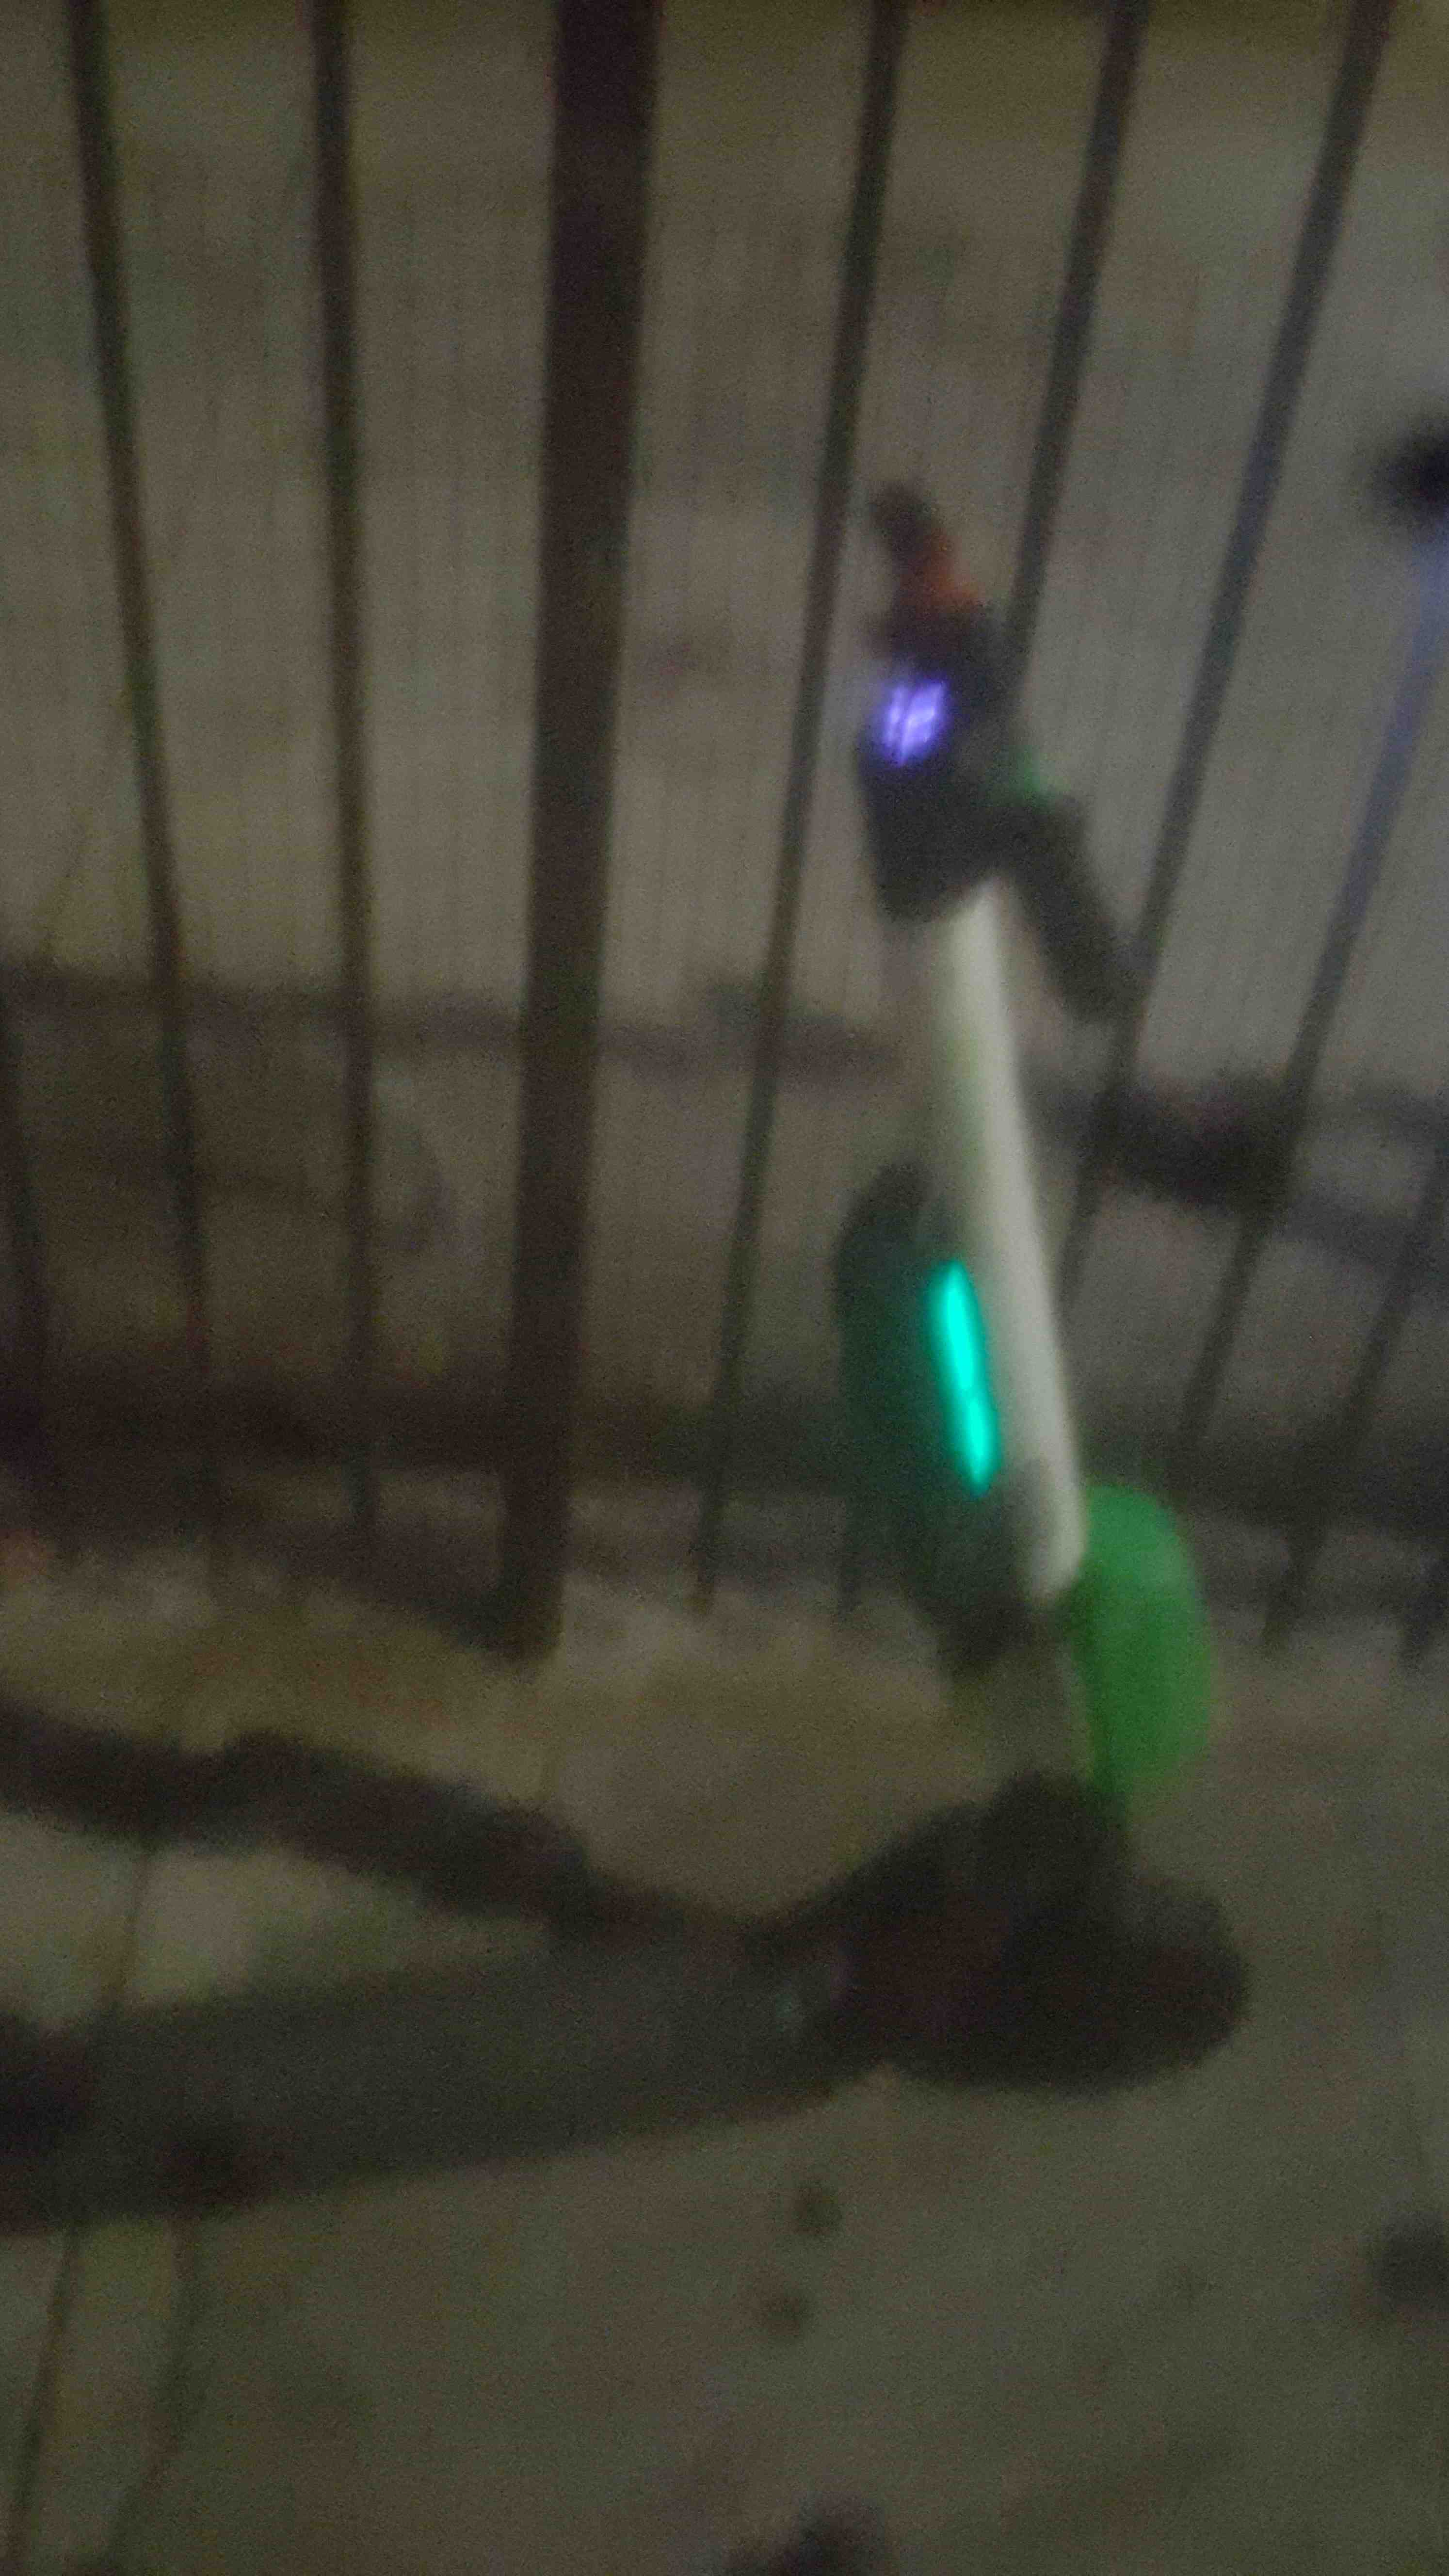scooter: (119, 531, 1359, 2567)
